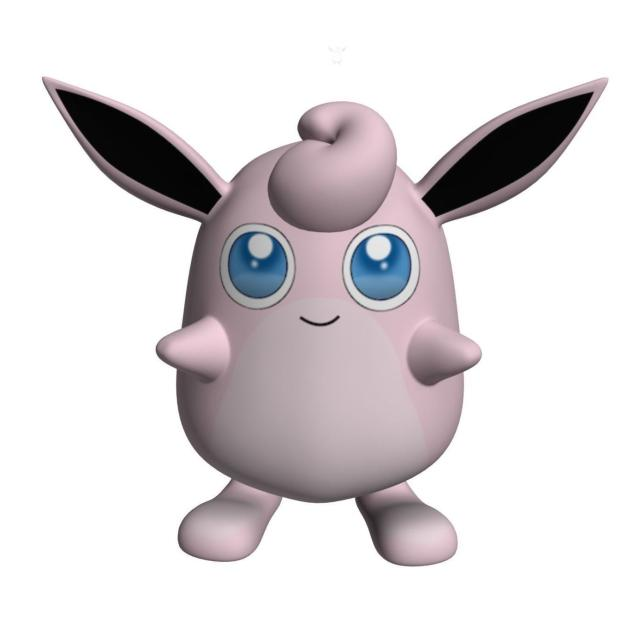Wigglytuff: (147, 97, 485, 588)
